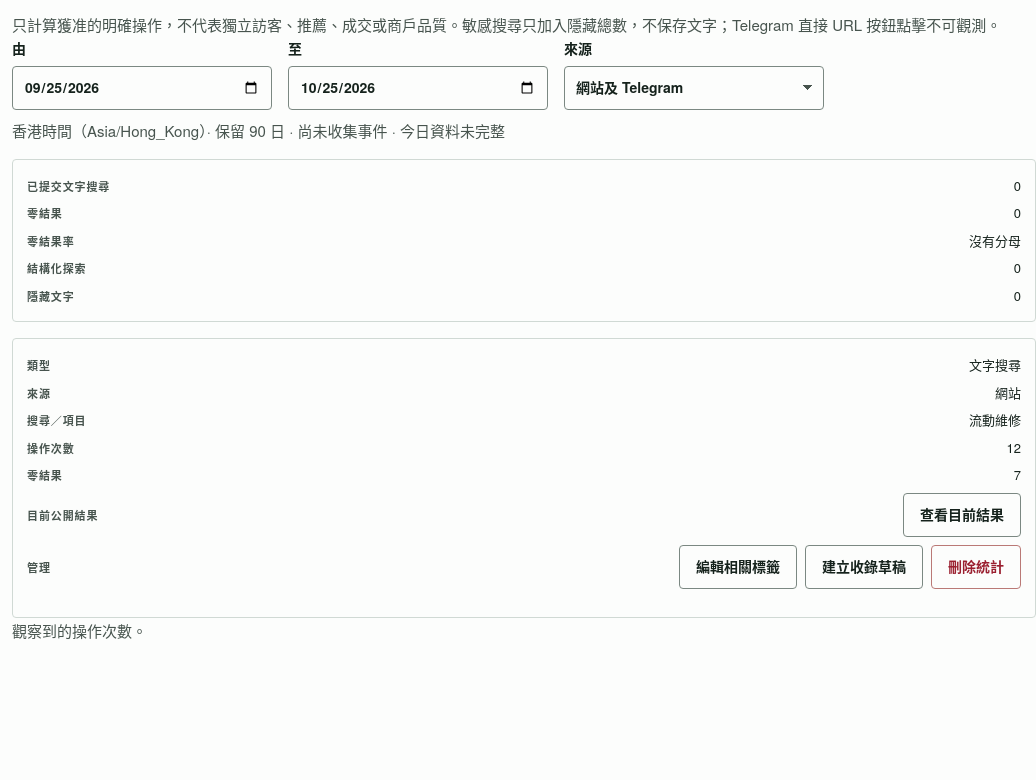
it: analytics operator view › inspects current public results without mixing them into historical counts
The width and height of the screenshot is (1036, 780).
Expected: the text "12" is shown, [27, 434, 1021, 461]
What coordinates should you click on to do the following:
click the button "查看目前結果"
I would click on:
 (962, 515)
Its box is [903, 493, 1021, 537].
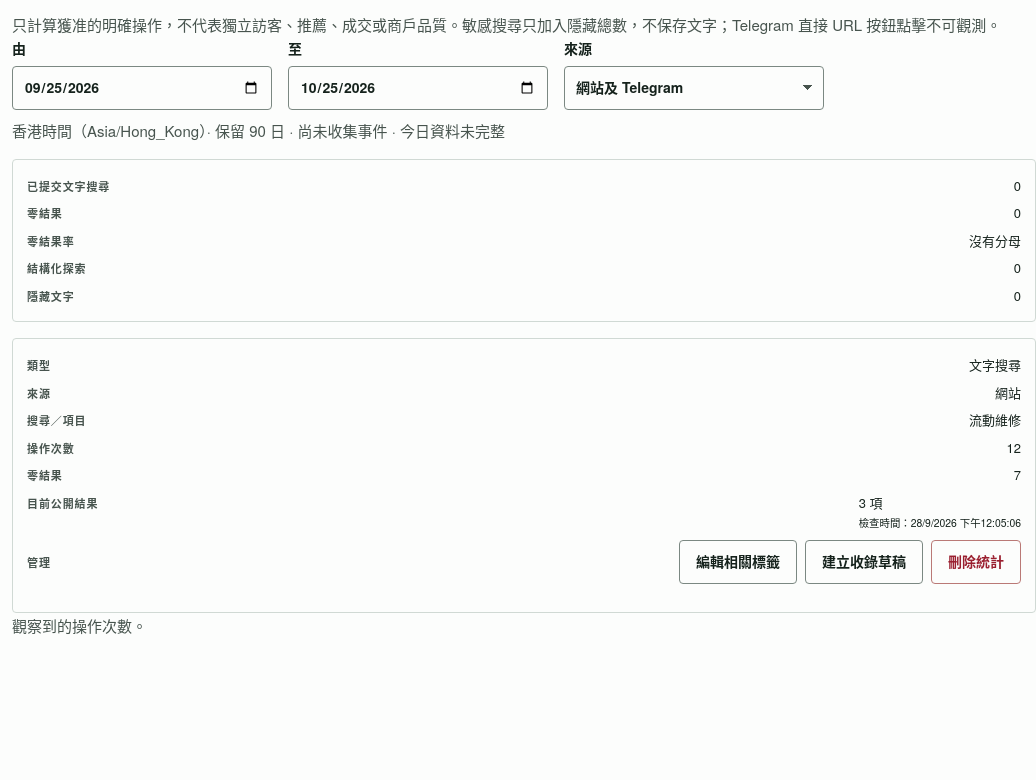
Expected: the text "12" is shown, [27, 434, 1021, 461]
Now the text "3 項" is shown, box [859, 493, 1021, 532]
Now the text "檢查時間" is shown, box [859, 515, 911, 530]
